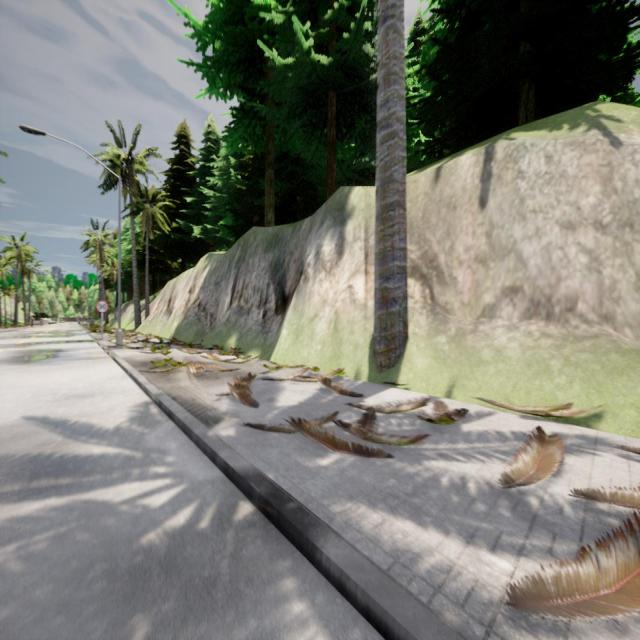Traffic_Signs: (96, 301, 108, 312)
